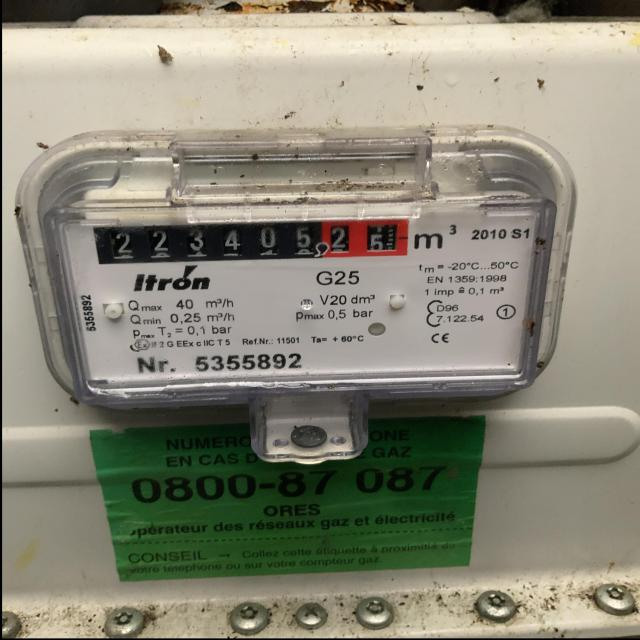gaz_meter: (48, 207, 532, 378)
indication: (93, 217, 410, 270)
